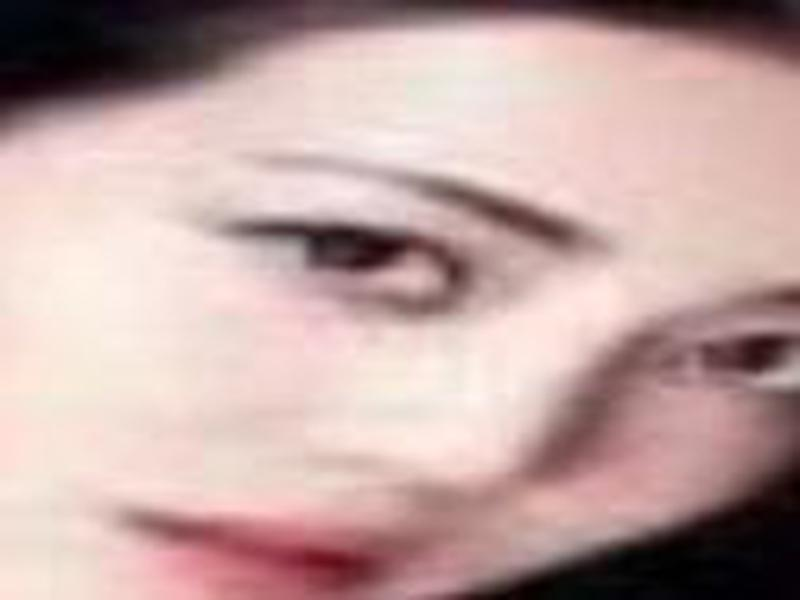without_mask: (8, 19, 800, 600)
